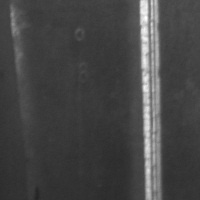scratches: (137, 1, 168, 200), (8, 3, 26, 93)
